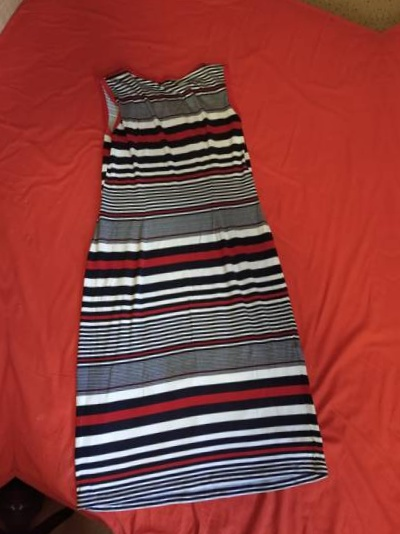Dress: (23, 29, 334, 524)
